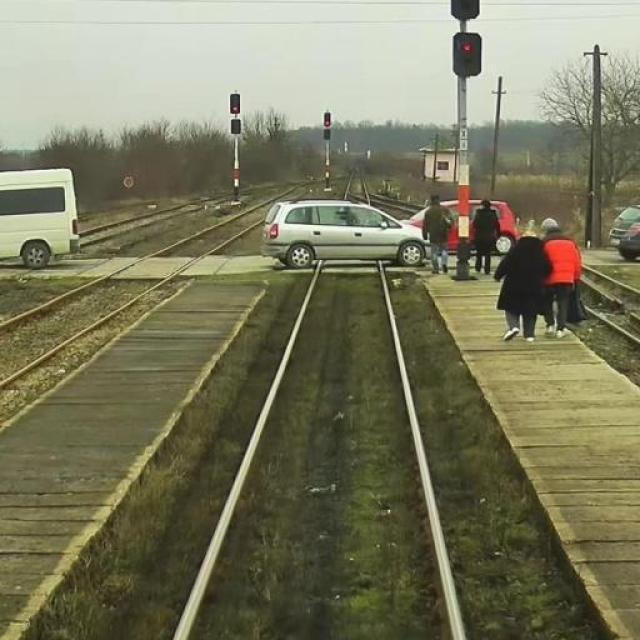people: (497, 224, 550, 343), (541, 218, 587, 336), (422, 191, 452, 276), (470, 194, 498, 274)
vehicle: (261, 194, 431, 278), (0, 164, 82, 275), (405, 188, 524, 258)
